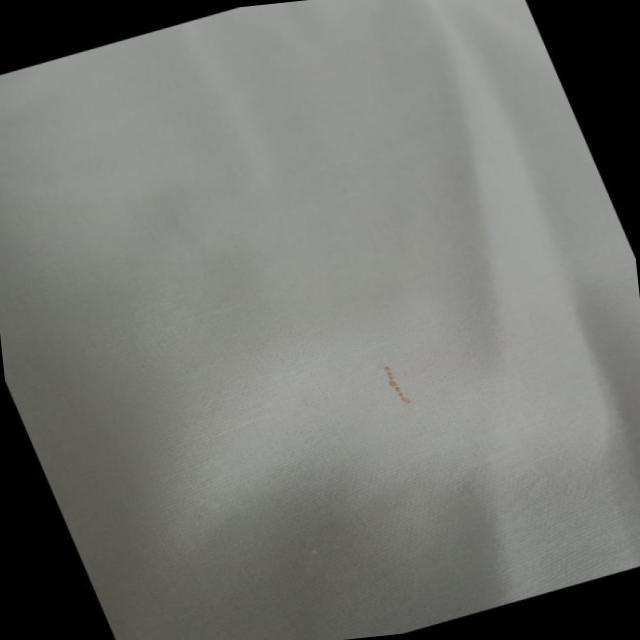contamination: (360, 345, 436, 425)
